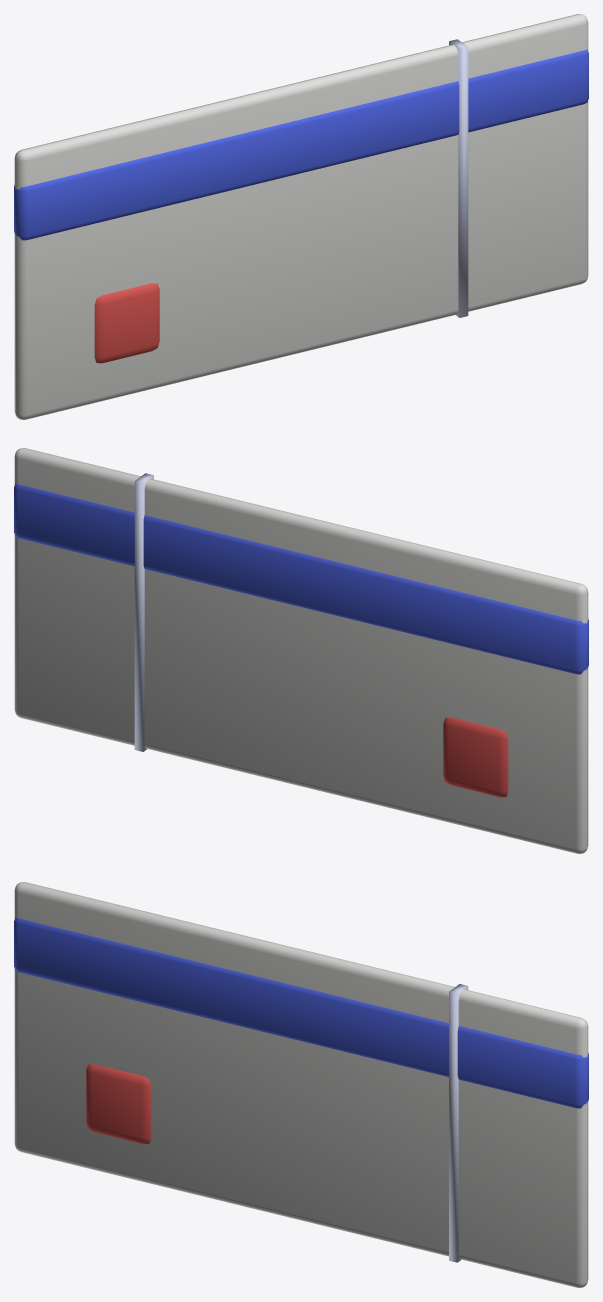
Rendered from ticket.glb.
3 views of the same model, one above another, from view 1: azimuth 30°, elevation 25°; view 2: azimuth 150°, elevation 25°; view 3: azimuth 330°, elevation 25° (orthographic).
Visible parts, largest first — view 1: paper, band, star, stub; view 2: paper, band, star, stub; view 3: paper, band, star, stub.
Boxes of the visible parts, x1=… form: paper: x1=14, y1=14, x2=588, y2=419; band: x1=14, y1=49, x2=588, y2=240; star: x1=94, y1=283, x2=159, y2=363; stub: x1=449, y1=39, x2=468, y2=317; paper: x1=14, y1=448, x2=588, y2=853; band: x1=14, y1=483, x2=588, y2=674; star: x1=443, y1=717, x2=508, y2=797; stub: x1=134, y1=473, x2=153, y2=751; paper: x1=14, y1=882, x2=588, y2=1287; band: x1=14, y1=917, x2=588, y2=1108; star: x1=86, y1=1064, x2=151, y2=1144; stub: x1=449, y1=984, x2=468, y2=1262.
Bounding box in the file's own units: 0.8 × 0.36 × 0.03.
